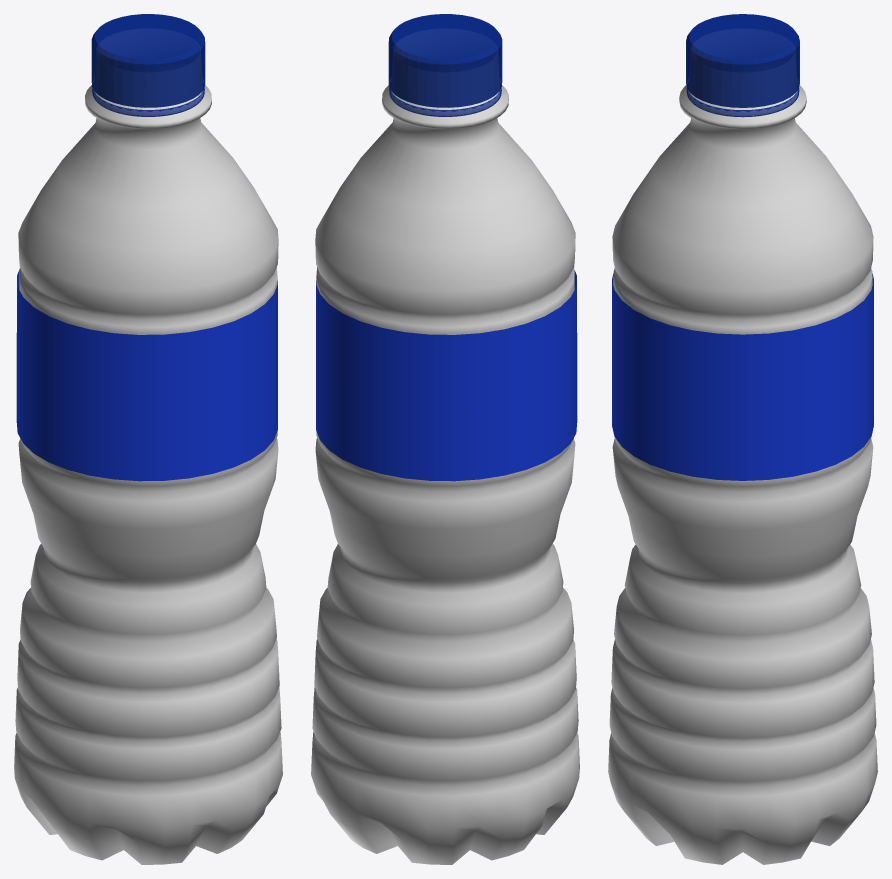
The model's file is BottleBlue_throw.glb.
The picture shows the model from 3 angles, left to right: view 1: azimuth 30°, elevation 25°; view 2: azimuth 150°, elevation 25°; view 3: azimuth 270°, elevation 25°; orthographic projection.
Visible parts, largest first — view 1: bottle, label, cap, cap2; view 2: bottle, label, cap, cap2; view 3: bottle, label, cap, cap2.
Part boxes in pixels (left/top/right/bottom): bottle: left=14, top=85, right=282, bottom=864; label: left=16, top=270, right=277, bottom=481; cap: left=91, top=14, right=205, bottom=107; cap2: left=92, top=87, right=204, bottom=116; bottle: left=311, top=85, right=579, bottom=864; label: left=316, top=270, right=577, bottom=481; cap: left=388, top=14, right=502, bottom=107; cap2: left=389, top=87, right=501, bottom=116; bottle: left=608, top=85, right=877, bottom=864; label: left=612, top=271, right=873, bottom=480; cap: left=686, top=14, right=799, bottom=107; cap2: left=686, top=88, right=799, bottom=117.
Bounding box in the file's own units: 0.0652 × 0.2097 × 0.0652.
